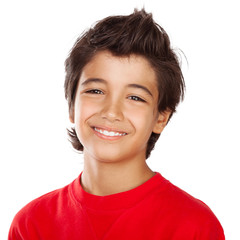teen: (60, 15, 181, 154)
